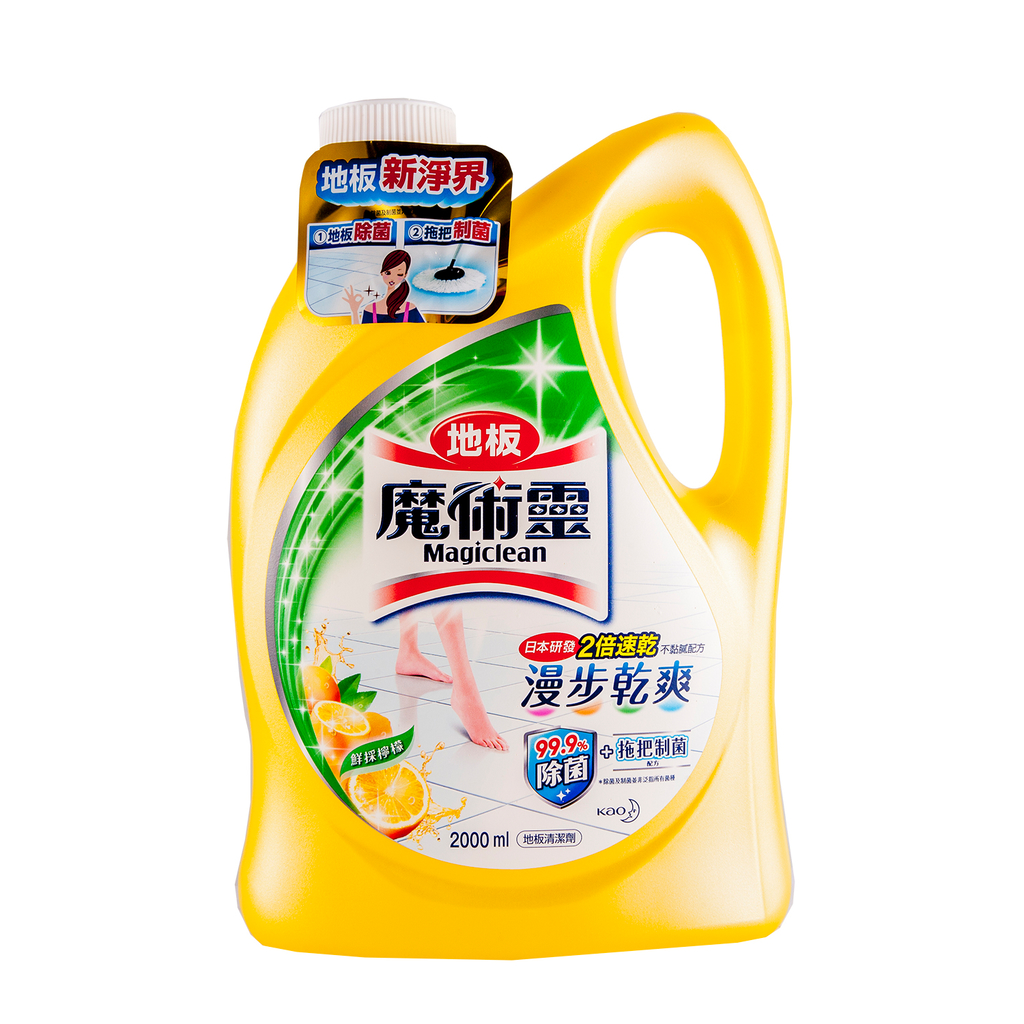cleaner: (220, 88, 825, 960)
